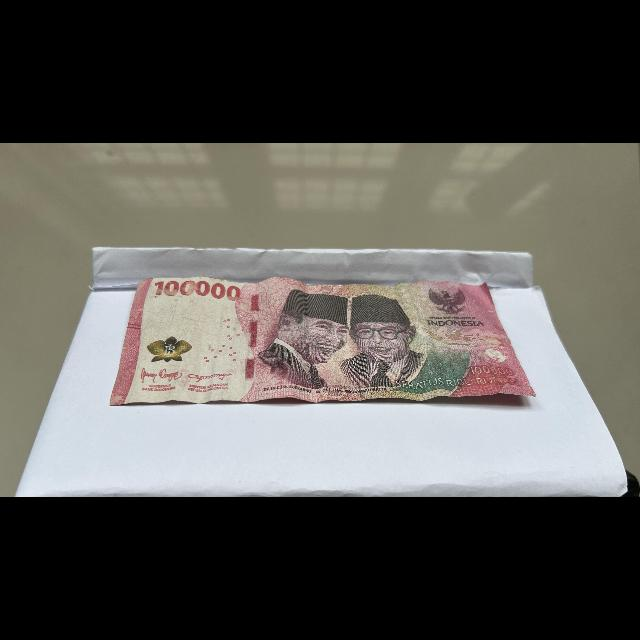Palsu-100k: (105, 271, 541, 408)
Tinta-Palsu-100k: (146, 335, 194, 364)
